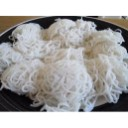idiyappam: (45, 18, 126, 56), (37, 61, 94, 113), (1, 40, 40, 98), (89, 42, 127, 97), (15, 22, 51, 57)
